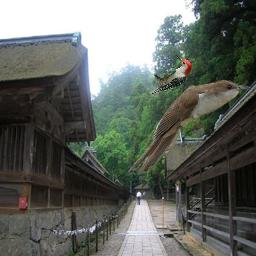Cuckoo: (128, 80, 252, 173)
Woodpecker: (150, 55, 192, 94)
